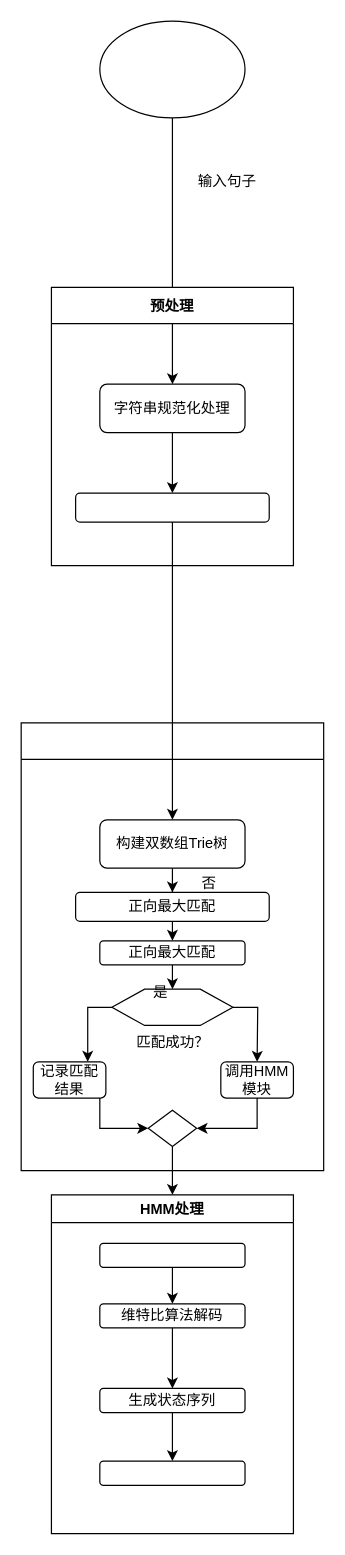
This 345x1555 diagram has some shape labels left out. The shapes that lost their labels are listed below. From the top down, each one's box as (x1, y1, x2, y2) in pixels, then its label:
(99, 20, 245, 118): 开始
(74, 492, 269, 522): 分离中文字符和非中文字符
(20, 722, 324, 1171): 词典分词
(99, 1242, 245, 1267): 加载BMES状态模型
(99, 1460, 245, 1485): 根据状态切分词语
